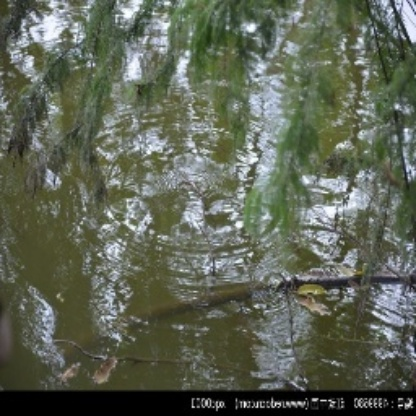branch: (123, 254, 408, 313)
